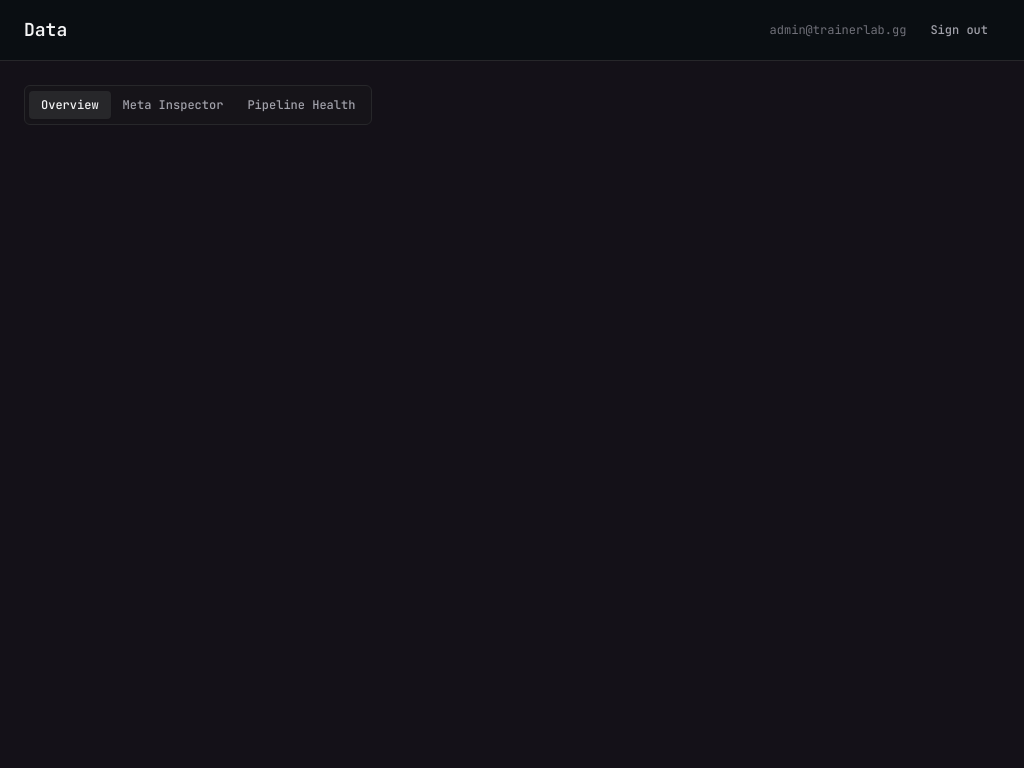
it: AdminDataPage › renders meta inspector tab
The width and height of the screenshot is (1024, 768).
What coordinates should you click on to do the following:
click the tab "Meta Inspector"
I would click on:
 (173, 105)
Its box is [111,91,235,119].
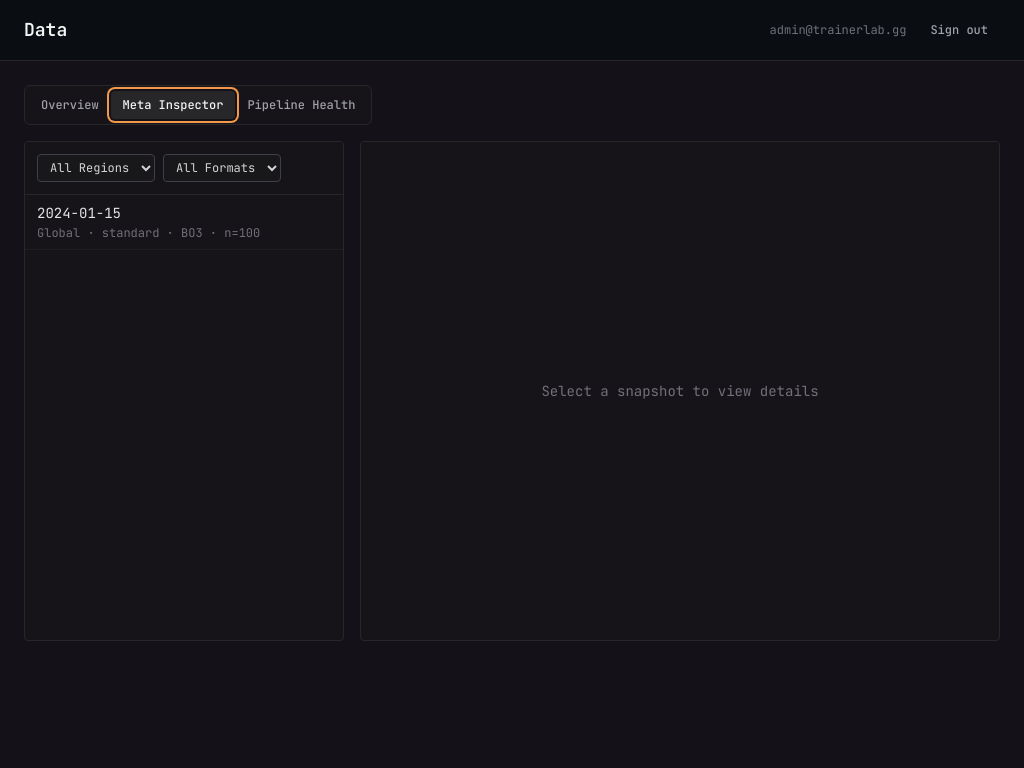
Check: the text "2024-01-15" is shown, box [37,204,121,222]
